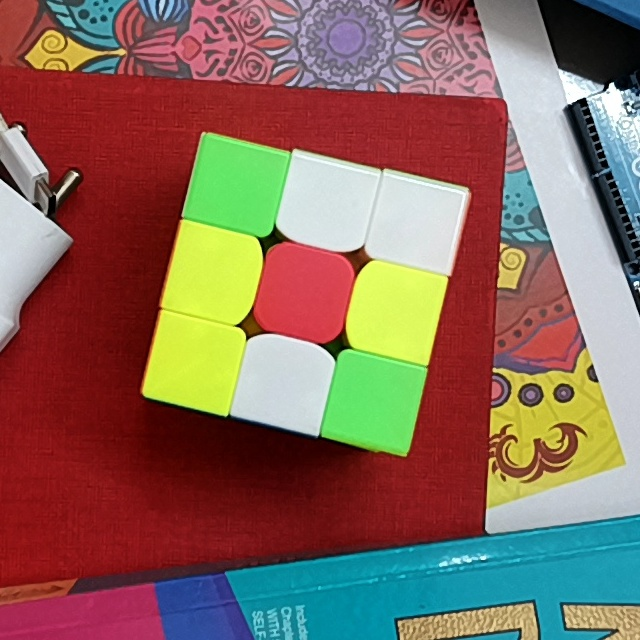tile: (269, 257, 338, 328), (360, 277, 430, 346), (340, 367, 409, 437), (382, 191, 449, 261), (160, 329, 227, 397), (201, 154, 270, 220), (248, 352, 319, 416), (293, 172, 362, 237), (181, 241, 249, 306)
